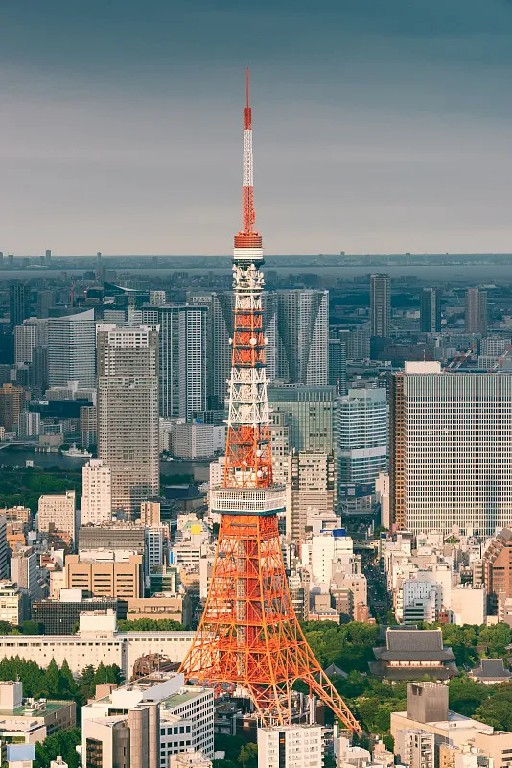Tokyo: (177, 62, 366, 738)
